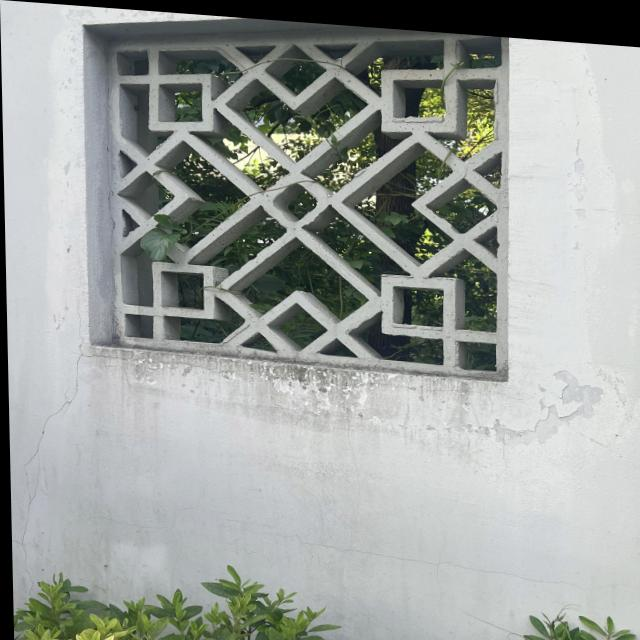crack: (268, 526, 613, 603), (13, 284, 94, 564)
spalling: (517, 354, 625, 457)
